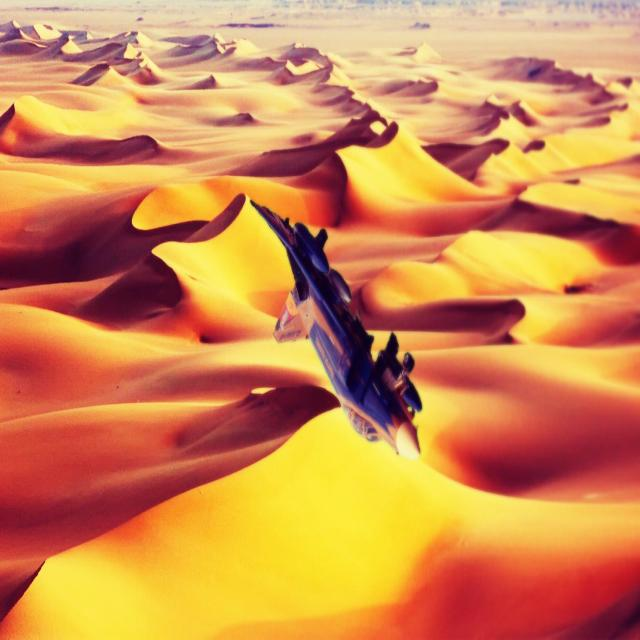airplane: (250, 199, 422, 458)
